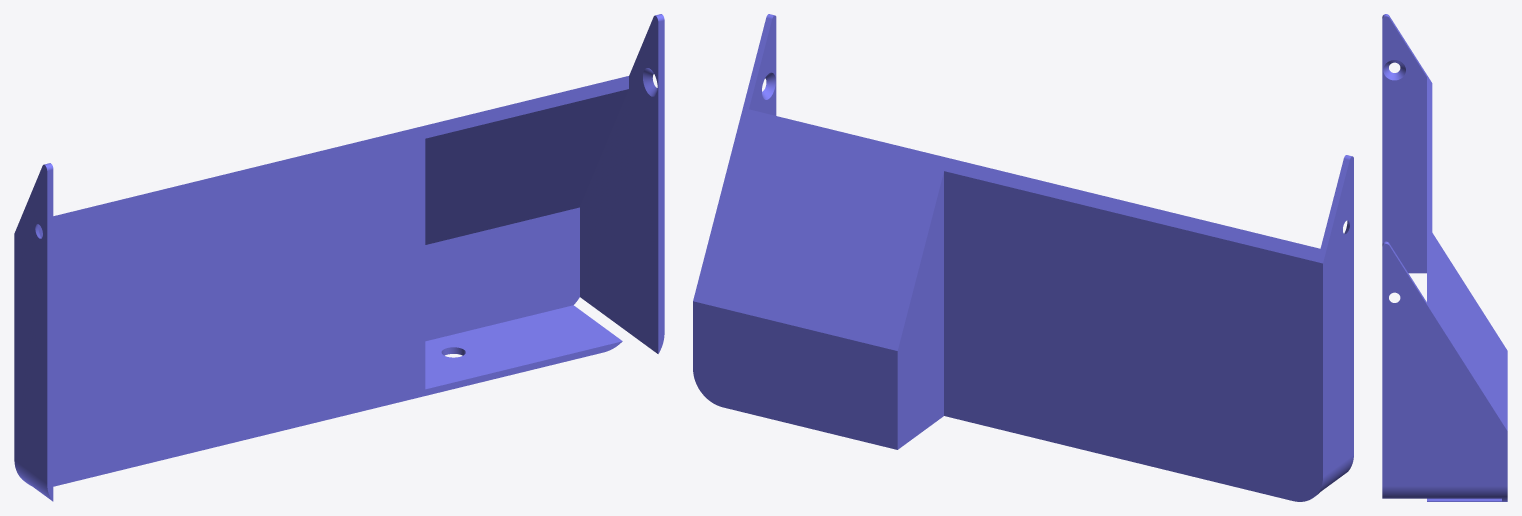
The model's file is VibesSeal.obj.
3 renders of one model, left to right at view 1: azimuth 30°, elevation 25°; view 2: azimuth 150°, elevation 25°; view 3: azimuth 270°, elevation 25°, orthographic. The views are drawn at different scales.
Visible parts, largest first — view 1: mesh1159, mesh1158, mesh1160, mesh1157, mesh1174, mesh1155, mesh1172, mesh1161; view 2: mesh1169, mesh1170, mesh1166, mesh1168, mesh1174, mesh1160; view 3: mesh1165, mesh1175, mesh1170, mesh1164, mesh1155, mesh1176.
Boxes of the visible parts, x1=… form: mesh1159: x1=25, y1=76, x2=628, y2=486; mesh1158: x1=425, y1=89, x2=628, y2=244; mesh1160: x1=580, y1=15, x2=658, y2=353; mesh1157: x1=425, y1=207, x2=579, y2=341; mesh1174: x1=14, y1=164, x2=47, y2=483; mesh1155: x1=425, y1=305, x2=622, y2=389; mesh1172: x1=47, y1=170, x2=53, y2=501; mesh1161: x1=658, y1=20, x2=664, y2=353; mesh1169: x1=944, y1=171, x2=1322, y2=501; mesh1170: x1=693, y1=18, x2=1349, y2=350; mesh1166: x1=693, y1=301, x2=897, y2=449; mesh1168: x1=897, y1=172, x2=943, y2=449; mesh1174: x1=1323, y1=156, x2=1353, y2=476; mesh1160: x1=749, y1=15, x2=776, y2=115; mesh1165: x1=1382, y1=244, x2=1507, y2=485; mesh1175: x1=1382, y1=16, x2=1426, y2=273; mesh1170: x1=1389, y1=16, x2=1507, y2=430; mesh1164: x1=1382, y1=486, x2=1507, y2=501; mesh1155: x1=1427, y1=498, x2=1501, y2=501; mesh1176: x1=1383, y1=60, x2=1405, y2=80.
Bounding box in the file's own units: 0.2937 × 0.1591 × 0.0675.
